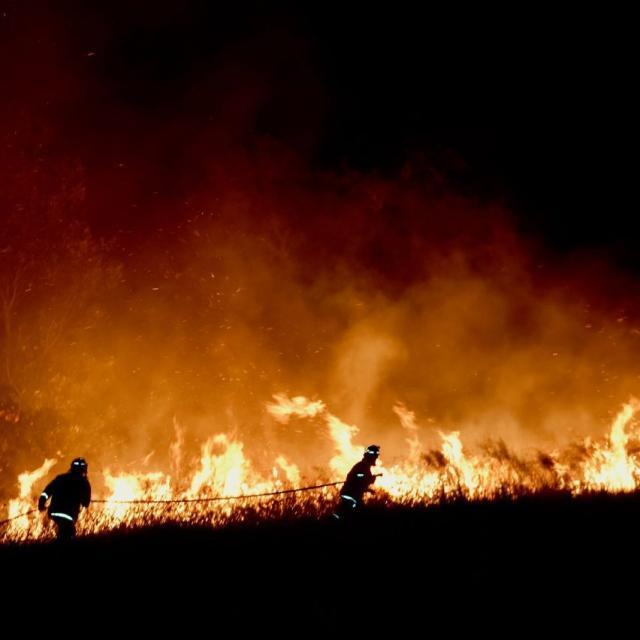Fire: (102, 404, 364, 536), (383, 408, 640, 520)
Smoke: (0, 122, 357, 388), (361, 189, 638, 404)
